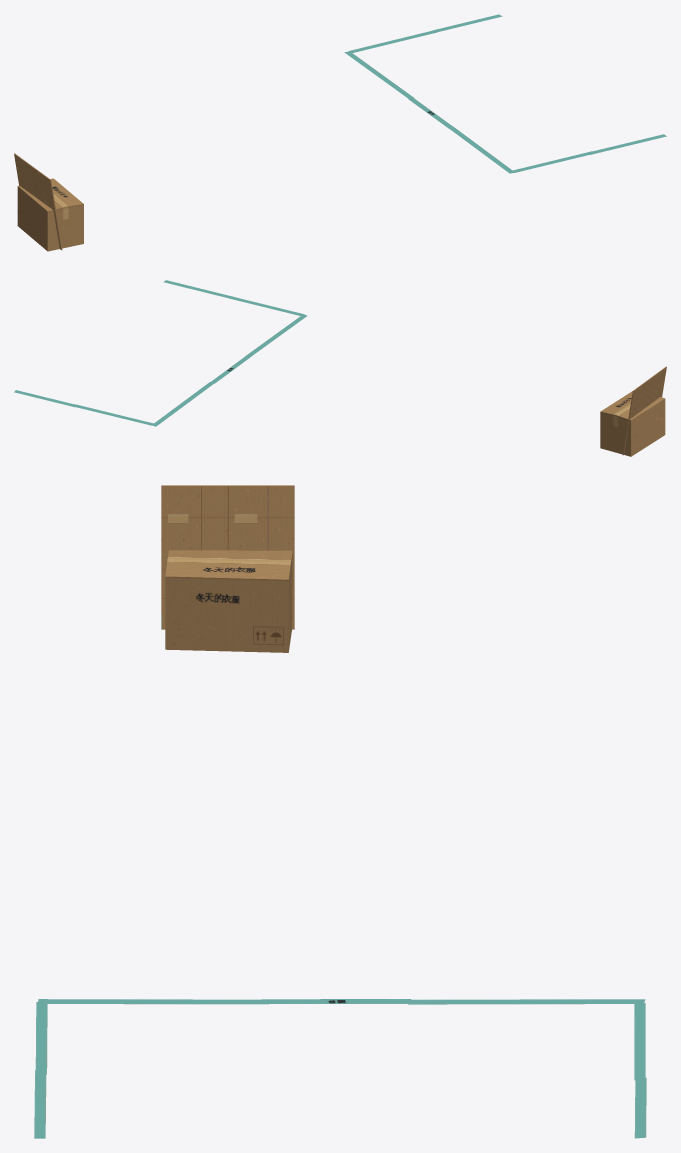
The model's file is dorm_y1_items.glb.
3 renders of one model, top to bottom at view 1: azimuth 30°, elevation 25°; view 2: azimuth 150°, elevation 25°; view 3: azimuth 270°, elevation 25°, orthographic. The views are drawn at different scales.
Parts seen in each view (by area): view 1: Y1_box_winter, Y1_kai_tape, Y1_box_folded; view 2: Y1_box_winter, Y1_kai_tape, Y1_box_folded; view 3: Y1_box_winter, Y1_box_folded, Y1_kai_tape.
Boxes of the visible parts, x1,y1,x2,y2 form: Y1_box_winter: (17, 178, 83, 251); Y1_kai_tape: (344, 14, 666, 173); Y1_box_folded: (14, 153, 62, 250); Y1_box_winter: (600, 391, 665, 456); Y1_kai_tape: (14, 280, 307, 426); Y1_box_folded: (622, 366, 666, 455); Y1_box_winter: (165, 550, 292, 652); Y1_box_folded: (161, 485, 294, 629); Y1_kai_tape: (34, 999, 646, 1138).
Bounding box in the file's own units: 5.18 × 0.62 × 2.58.
1 material, 1 textured.
